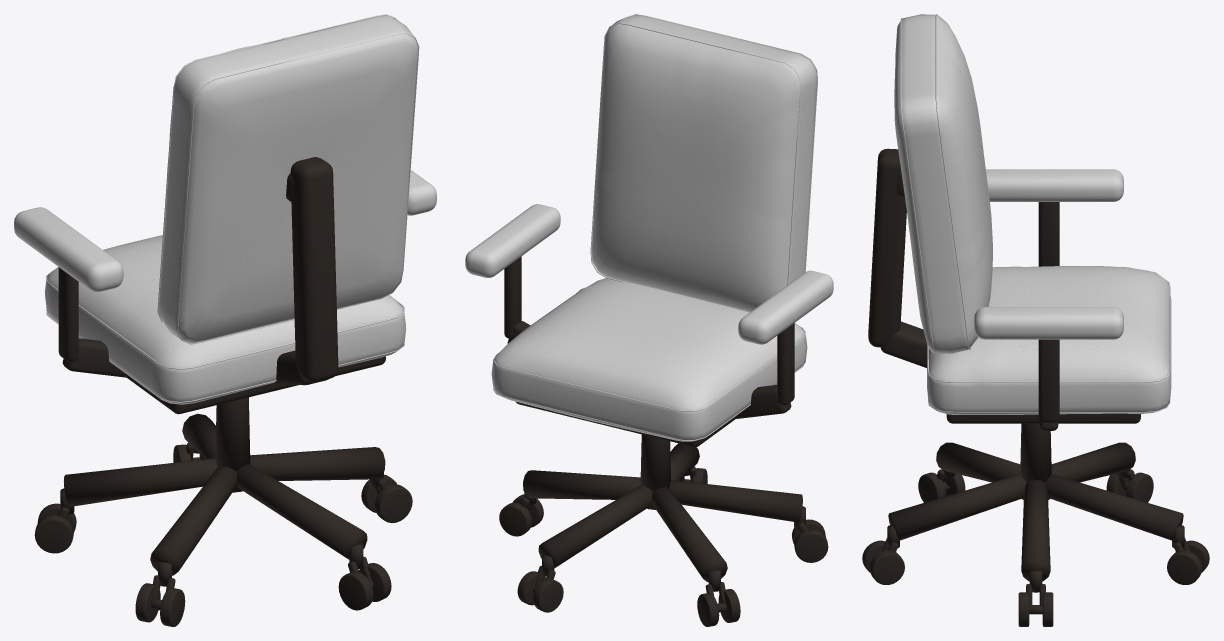
The model's file is office-chair-classic.glb.
The picture shows the model from 3 angles, left to right: view 1: azimuth 30°, elevation 25°; view 2: azimuth 150°, elevation 25°; view 3: azimuth 270°, elevation 25°; orthographic projection. The views are drawn at different scales.
Visible parts, largest first — view 1: Padded ergonomic back, Shaped office seat, Back support spine, Soft arm pad, Five-star base spoke.002, Five-star base spoke.004, Five-star base spoke, Five-star base spoke.003, Gas lift, Arm support, Under-seat mounting plate, Arm mounting bracket (+12 smaller); view 2: Padded ergonomic back, Shaped office seat, Soft arm pad, Soft arm pad.001, Five-star base spoke.003, Five-star base spoke.001, Five-star base spoke, Five-star base spoke.002, Gas lift, Arm support, Arm support.001, Padded ergonomic back · upper stitched edge (+10 smaller); view 3: Padded ergonomic back, Shaped office seat, Back support spine, Soft arm pad.001, Soft arm pad, Five-star base spoke.001, Five-star base spoke.004, Five-star base spoke, Five-star base spoke.002, Five-star base spoke.003, Arm support.001, Gas lift (+10 smaller).
Part boxes in pixels (x1,y1,x2,y2): Padded ergonomic back: (158,15,418,343); Shaped office seat: (44,235,406,404); Back support spine: (290,157,338,382); Soft arm pad: (14,207,123,292); Five-star base spoke.002: (63,458,217,506); Five-star base spoke.004: (236,464,367,559); Five-star base spoke: (250,447,385,480); Five-star base spoke.003: (150,466,237,575); Gas lift: (215,397,250,492); Arm support: (58,267,78,361); Under-seat mounting plate: (124,356,385,414); Arm mounting bracket: (62,338,125,377); Padded ergonomic back: (591,14,817,312); Shaped office seat: (491,278,807,441); Soft arm pad: (738,270,833,344); Soft arm pad.001: (465,204,560,277); Five-star base spoke.003: (669,480,802,522); Five-star base spoke.001: (538,485,652,568); Five-star base spoke: (523,470,640,499); Five-star base spoke.002: (651,487,727,582); Gas lift: (640,434,670,509); Arm support: (777,323,794,405); Arm support.001: (504,256,521,338); Padded ergonomic back · upper stitched edge: (590,22,800,284); Padded ergonomic back: (894,14,992,353); Shaped office seat: (927,266,1171,414); Back support spine: (868,148,906,347); Soft arm pad.001: (974,307,1123,339); Soft arm pad: (986,169,1123,201); Five-star base spoke.001: (1045,474,1183,541); Five-star base spoke.004: (888,474,1026,541); Five-star base spoke: (1021,480,1050,581); Five-star base spoke.002: (1051,442,1135,482); Five-star base spoke.003: (936,442,1020,482); Arm support.001: (1038,339,1059,422); Gas lift: (1020,423,1051,499).
Bounding box in the file's own units: 0.69 × 1.05 × 0.6616.
2 materials, 1 textured.
